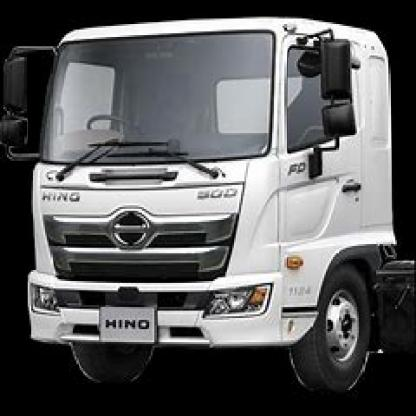dump_truck: (26, 11, 414, 399)
